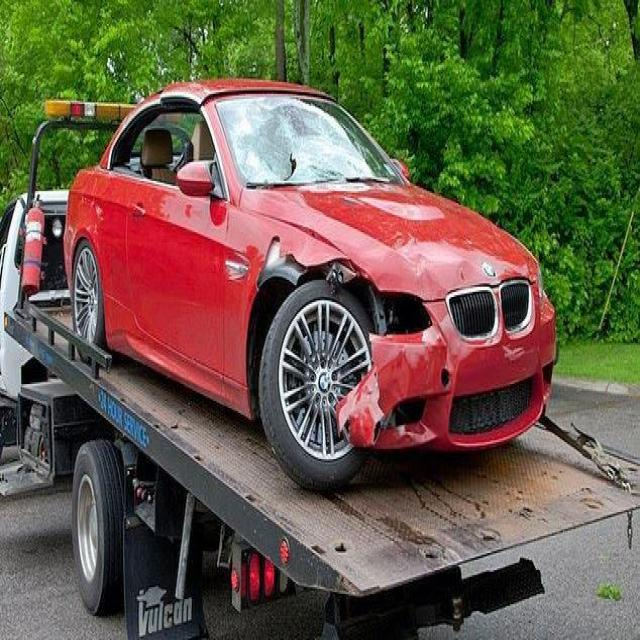damaged: (254, 230, 442, 340), (339, 300, 445, 466)
